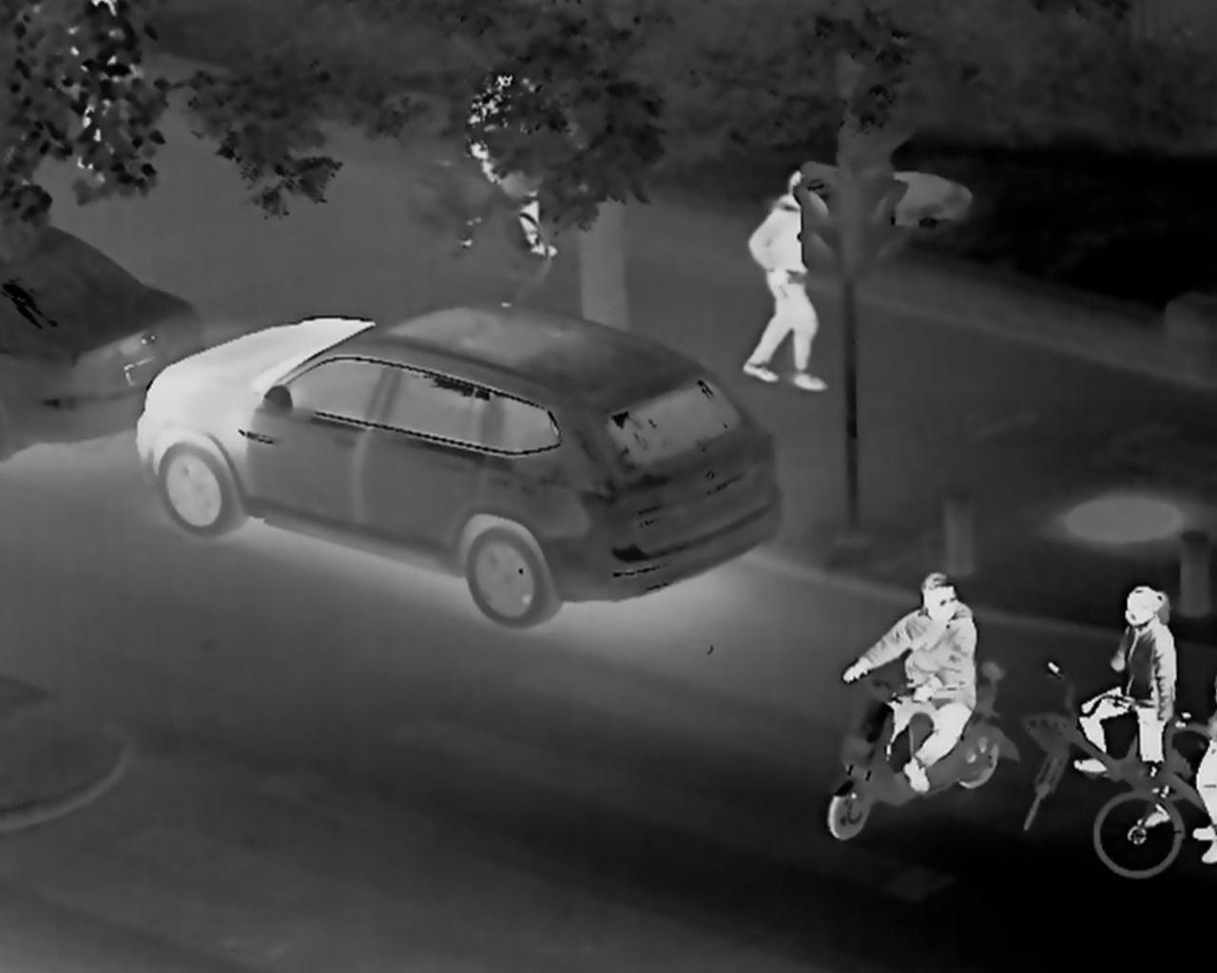person: (837, 565, 980, 795), (1067, 584, 1186, 830), (735, 168, 828, 398), (453, 70, 556, 259)
